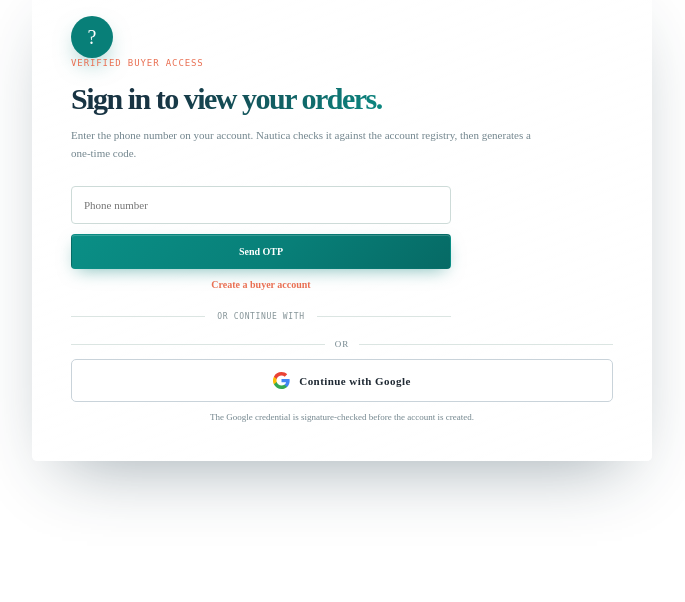
Scenario: the create-account action is reachable from the sign-in form
Click the button "Create a buyer account".
click(261, 285)  # box x1=71 y1=279 x2=451 y2=290
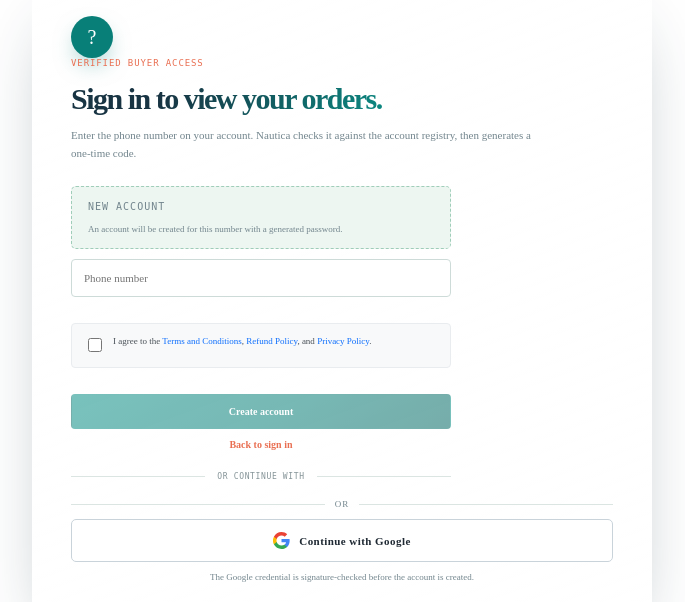
Now the button "Create account" is shown, box x1=71 y1=394 x2=451 y2=429
